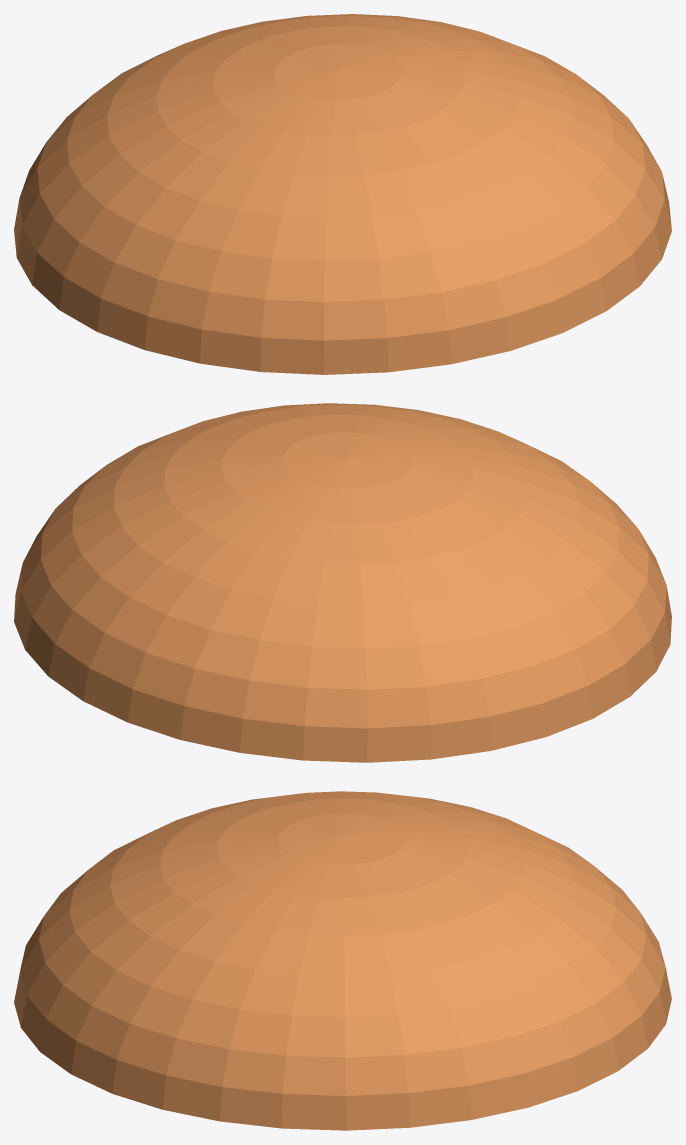
Rendered from panArriba.glb.
3 views of the same model, one above another, from view 1: azimuth 30°, elevation 25°; view 2: azimuth 150°, elevation 25°; view 3: azimuth 270°, elevation 25° (orthographic).
Parts seen in each view (by area): view 1: Pan_Superior; view 2: Pan_Superior; view 3: Pan_Superior.
Boxes of the visible parts, <box> form: Pan_Superior: <box>14,14,671,374</box>; Pan_Superior: <box>14,403,671,762</box>; Pan_Superior: <box>14,791,671,1130</box>.
Size of the model in its own units: 2.02 by 0.5812 by 2.02.
